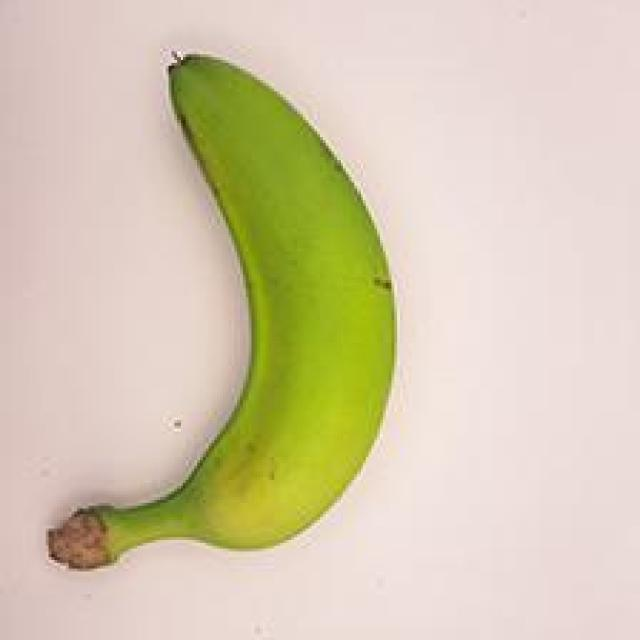Unripe: (29, 36, 417, 582)
